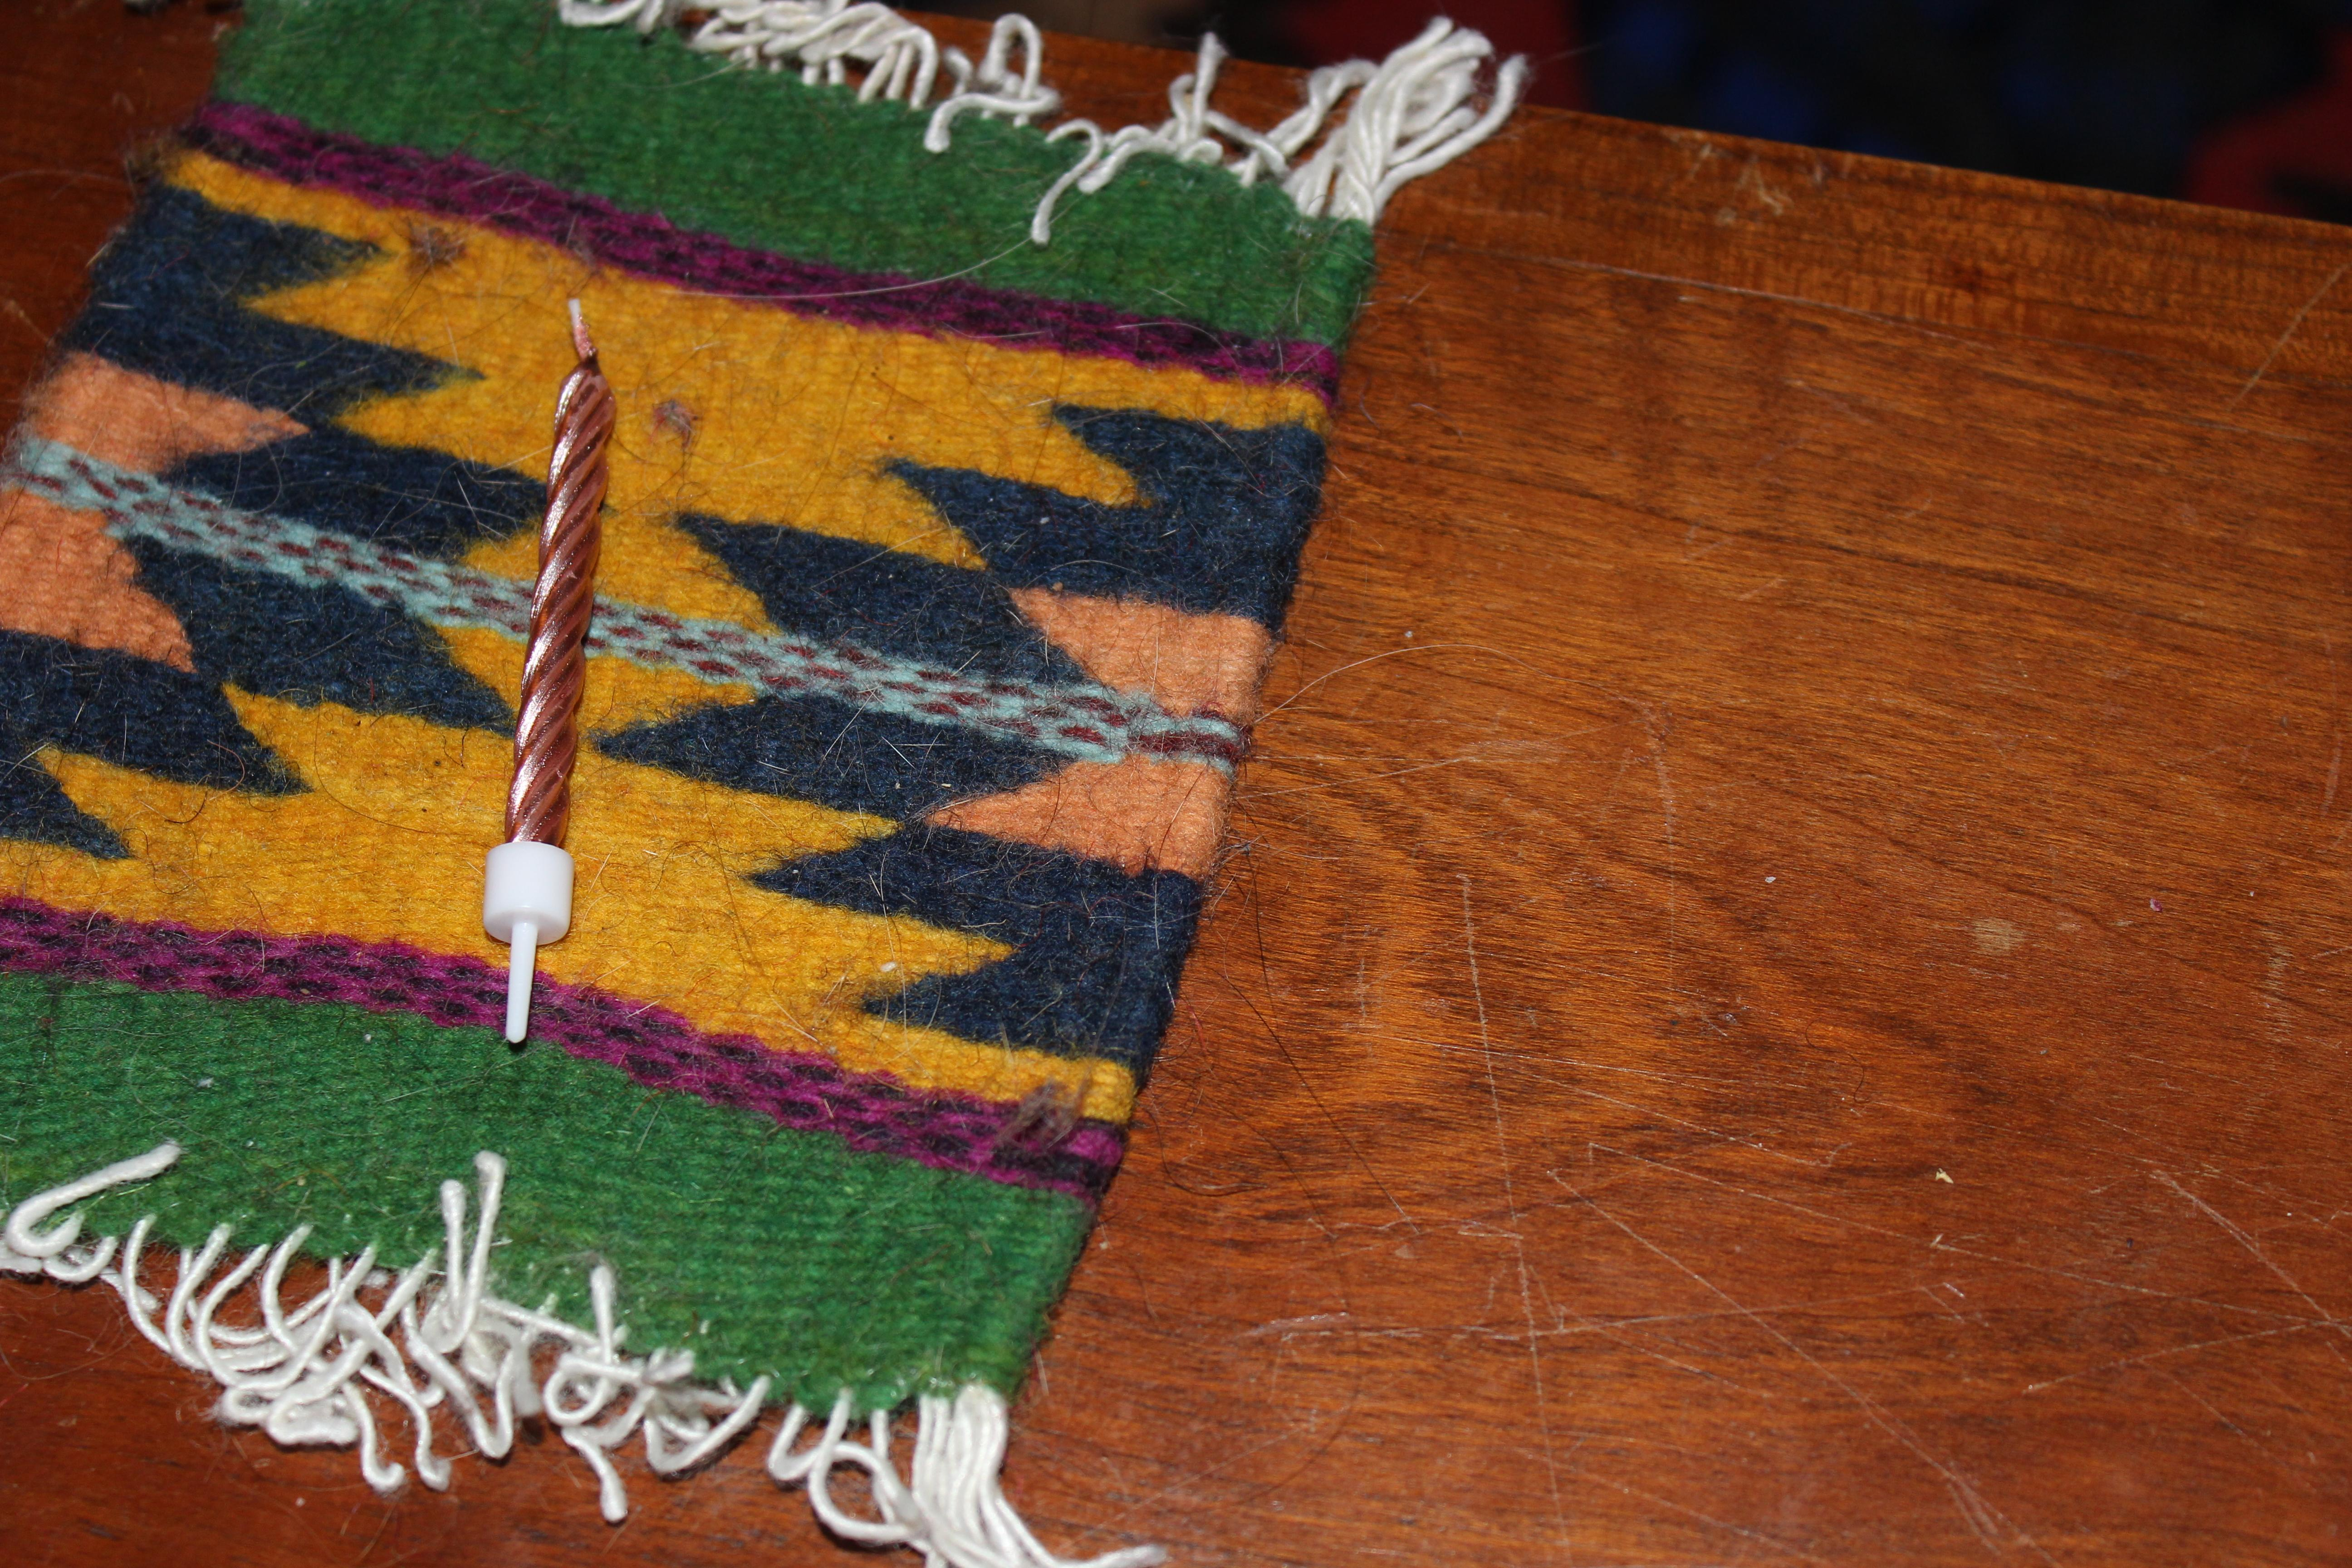pinkCandle: (446, 282, 658, 1071)
